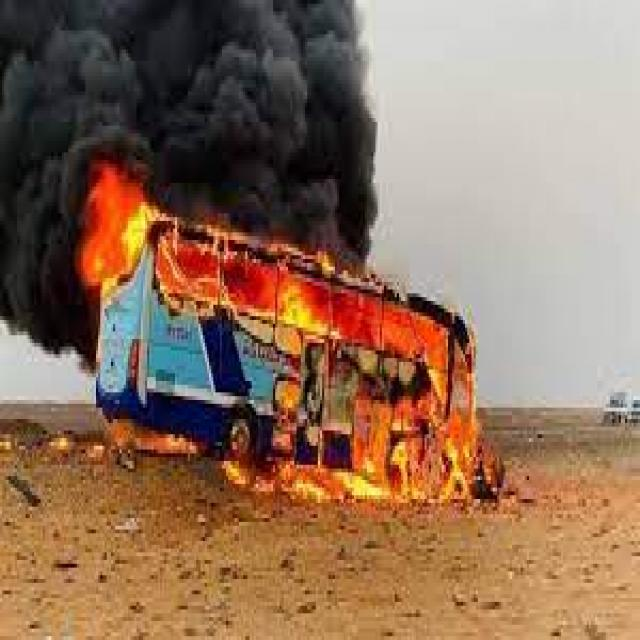fire: (224, 259, 497, 514), (74, 164, 156, 297)
smoke: (96, 4, 380, 270), (2, 4, 96, 377)
